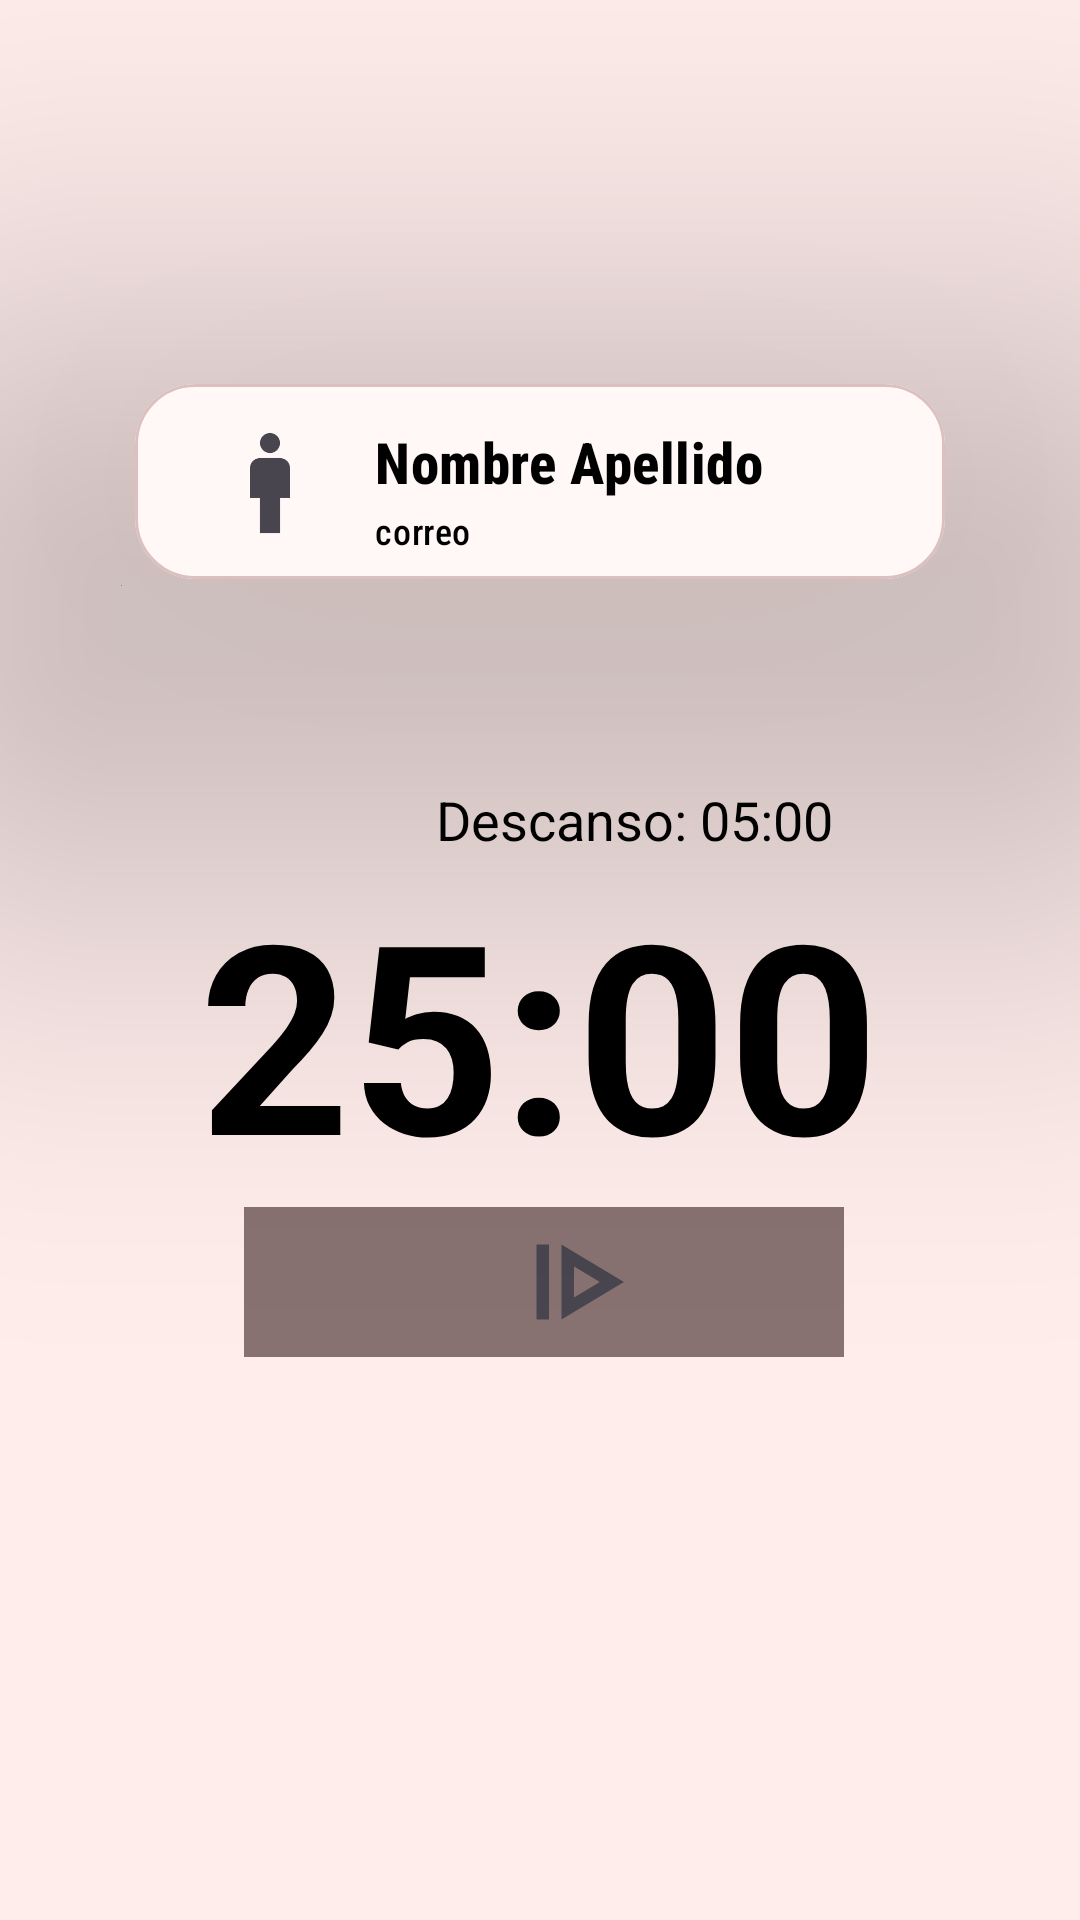

Screen size 1080w x 1920h. Icon name, then its box in pixels as rect(x1, y1, x2, y2):
man: rect(250, 433, 290, 533)
resume: rect(536, 1244, 623, 1320)
